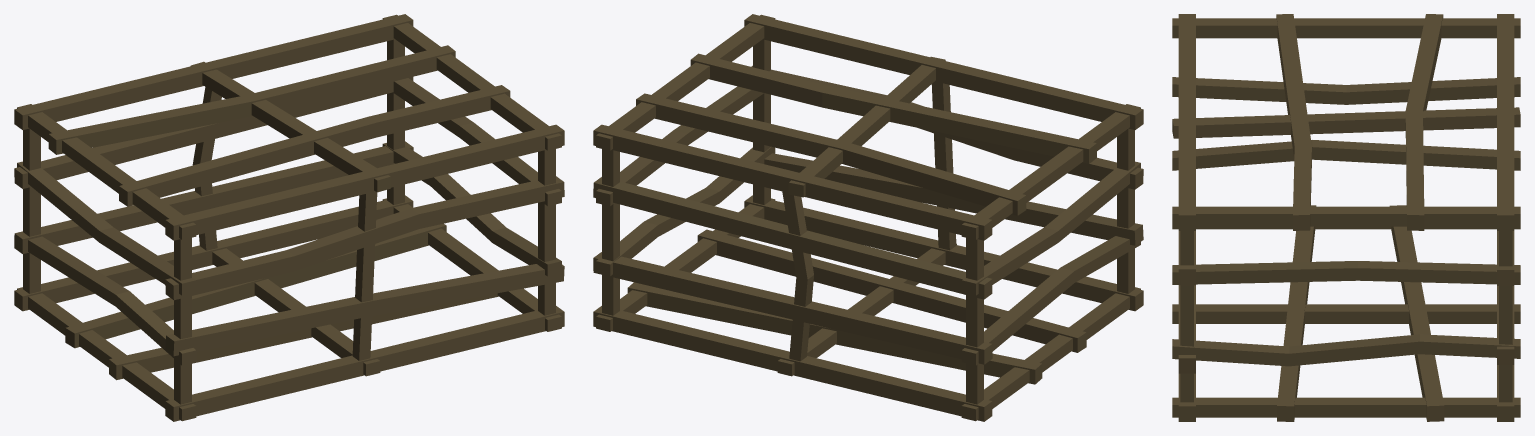
The model's file is FishingCrate.fbx.
3 views of the same model, side by side, from view 1: azimuth 30°, elevation 25°; view 2: azimuth 150°, elevation 25°; view 3: azimuth 270°, elevation 25° (orthographic). The views are drawn at different scales.
Parts seen in each view (by area): view 1: FishingCrate; view 2: FishingCrate; view 3: FishingCrate.
Part boxes in pixels (x1,y1,x2,y2): FishingCrate: (14, 14, 564, 421); FishingCrate: (593, 14, 1143, 421); FishingCrate: (1172, 14, 1520, 421).
Bounding box in the file's own units: 72.74 × 34.84 × 53.2.
